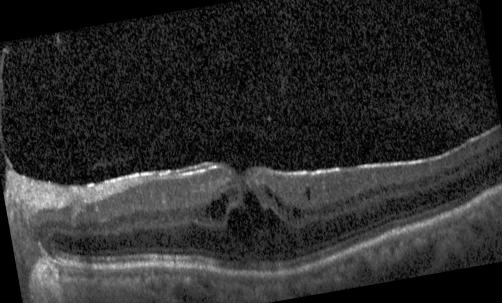intraretinal_cyst: (227, 208, 254, 249), (242, 189, 265, 228), (264, 207, 280, 237), (206, 199, 227, 220), (265, 187, 282, 206), (292, 207, 302, 218), (222, 193, 229, 203), (306, 187, 310, 199)
